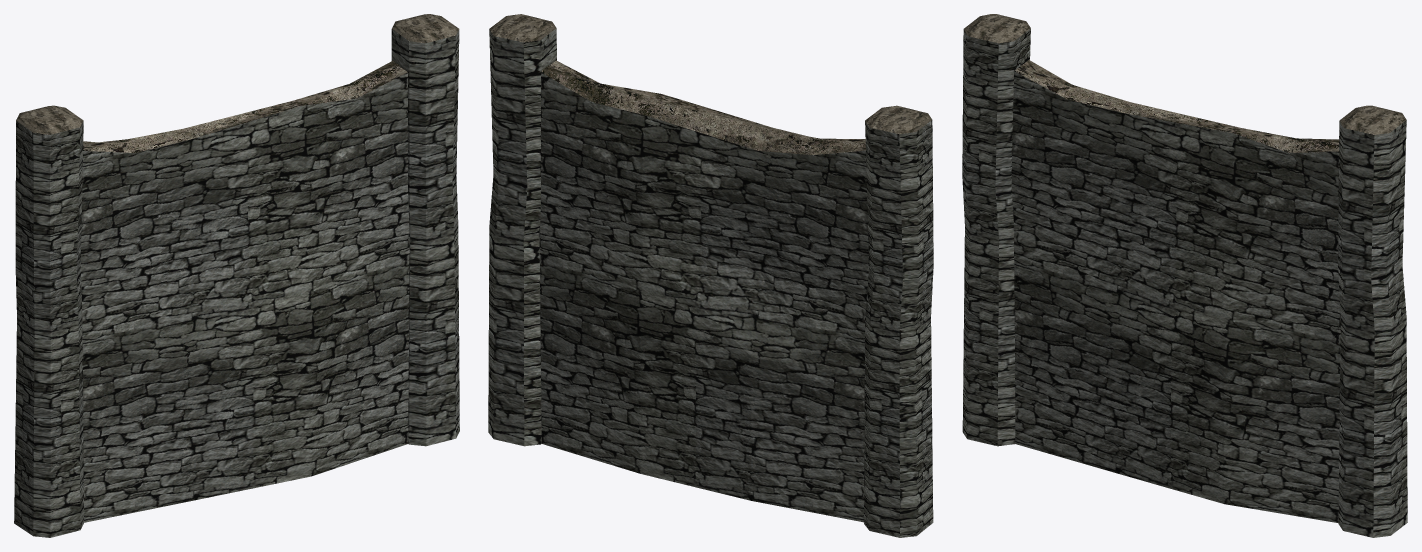
Rendered from mur.glb.
3 renders of one model, left to right at view 1: azimuth 30°, elevation 25°; view 2: azimuth 150°, elevation 25°; view 3: azimuth 330°, elevation 25°, orthographic.
Parts seen in each view (by area): view 1: zengin; view 2: zengin; view 3: zengin.
Part boxes in pixels (bbox=[...]): zengin: bbox=[14, 14, 459, 537]; zengin: bbox=[488, 14, 933, 537]; zengin: bbox=[962, 14, 1407, 537].
Size of the model in its own units: 9.06 by 8.24 by 1.2.
Materials: 2 (2 with a texture image).
